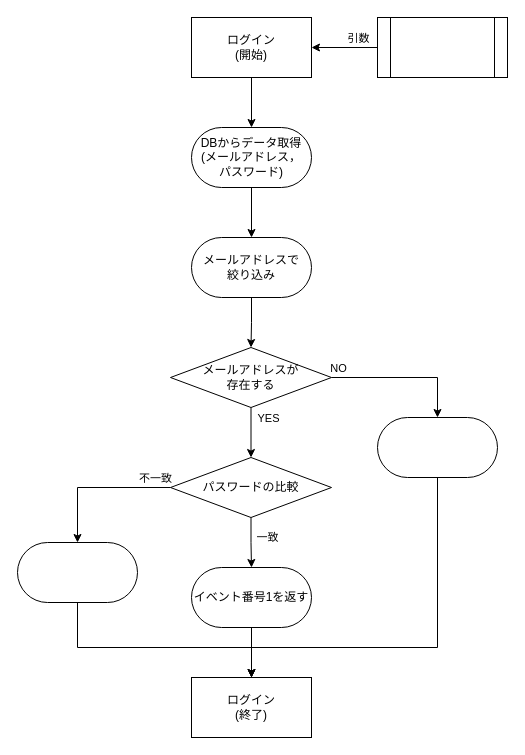
Some shapes in this 525 by 755 pixel diagram are drawn without their labels. The shapes that lost their labels are listed below. From the top down, each one's centre as x and y in pixels, then its label:
At point 442,47: "データ入力 (メールアドレス，パスワード)".
At point 437,447: "イベント番号2を返す".
At point 77,572: "イベント番号3を返す".
